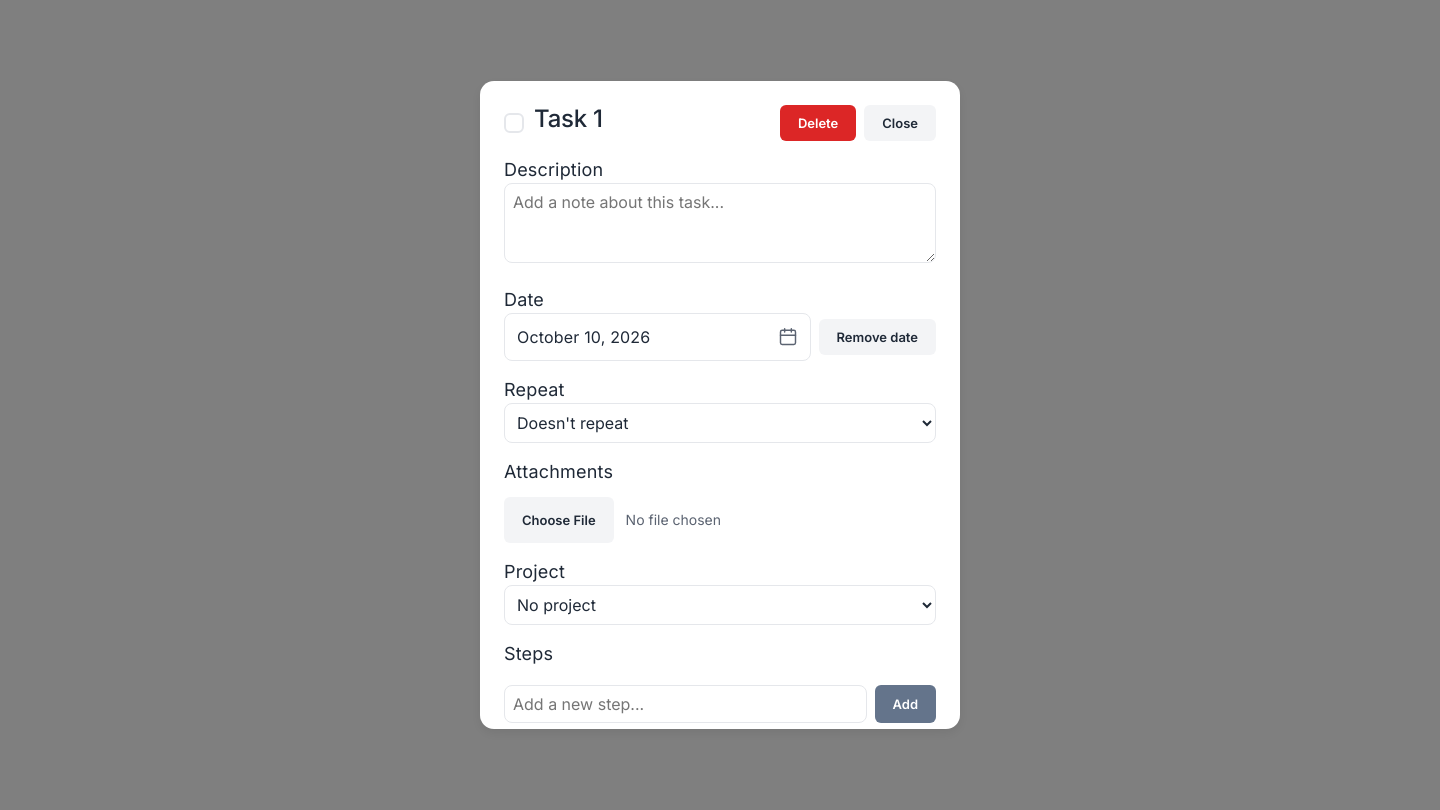
Test: TaskDetailModal dialog › keeps its name while the title is being edited
The width and height of the screenshot is (1440, 810).
Double-click the heading "Task 1" at [568, 119], box [534,105,603,133]
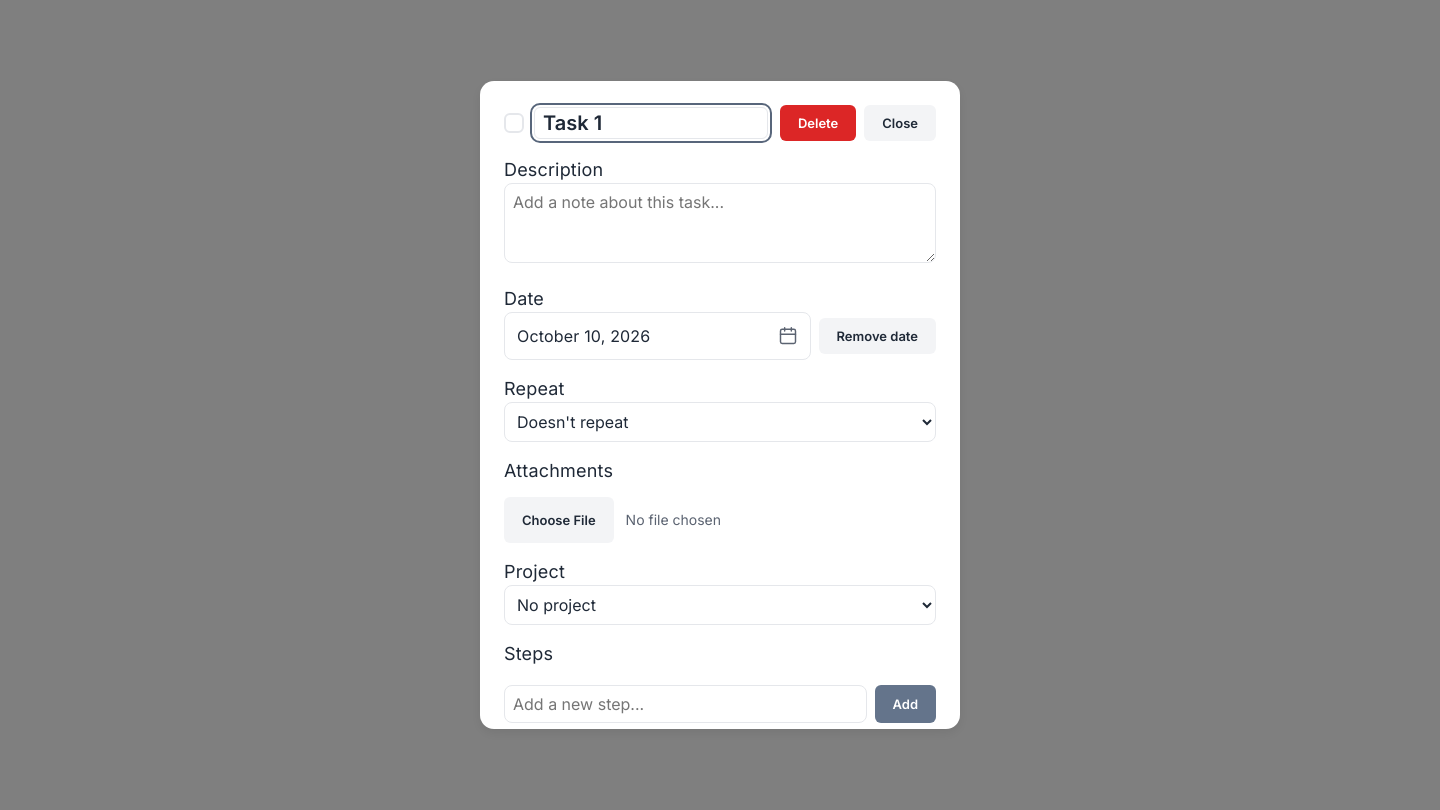
Expected: the dialog named "Task 1" is shown, [480,81,960,729]
Result: the field showing "Task 1" is shown at [534,107,768,139]
